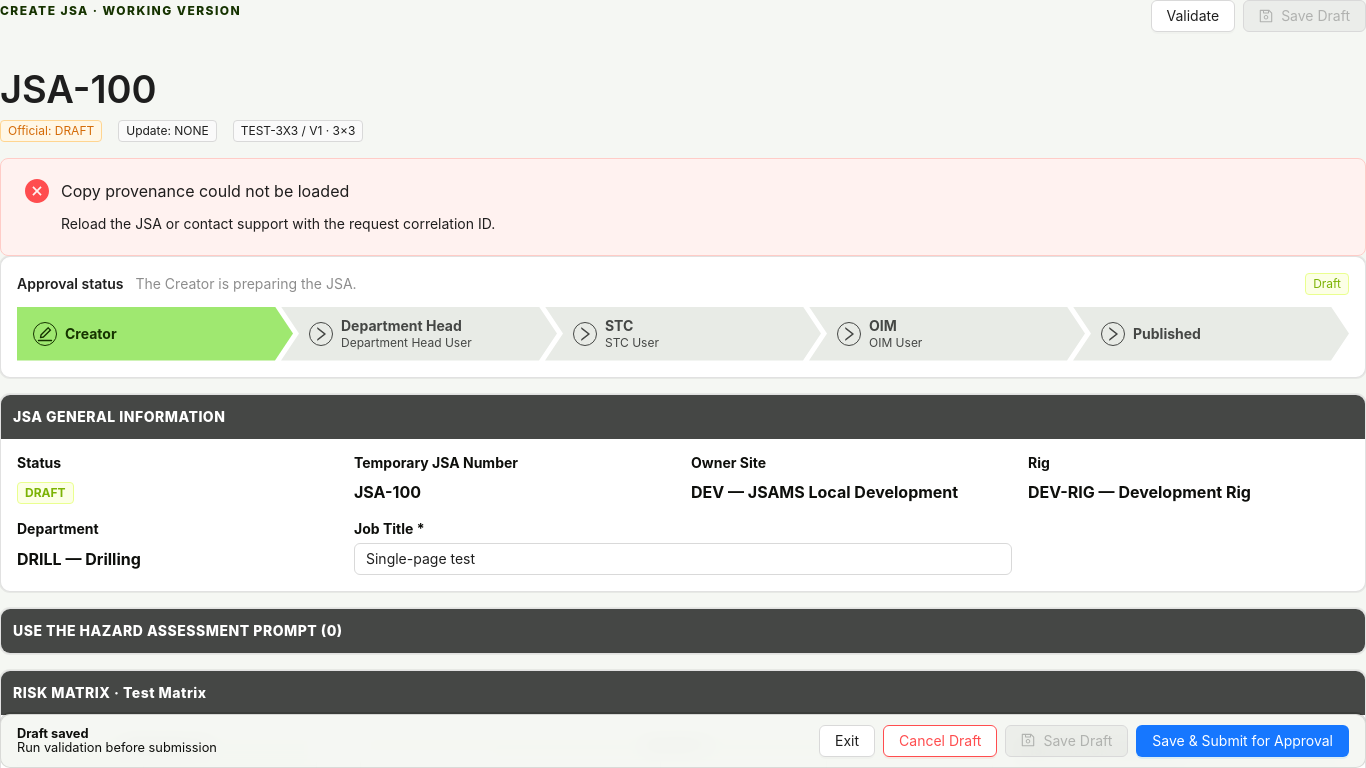
Test case: JsaDraftEditor single-page worksheet › keeps complete API diagnostics visible when Draft save fails
The width and height of the screenshot is (1366, 768).
Type " updated" into the field showing "Single-page test" at (683, 559), box [354,543,1012,575]
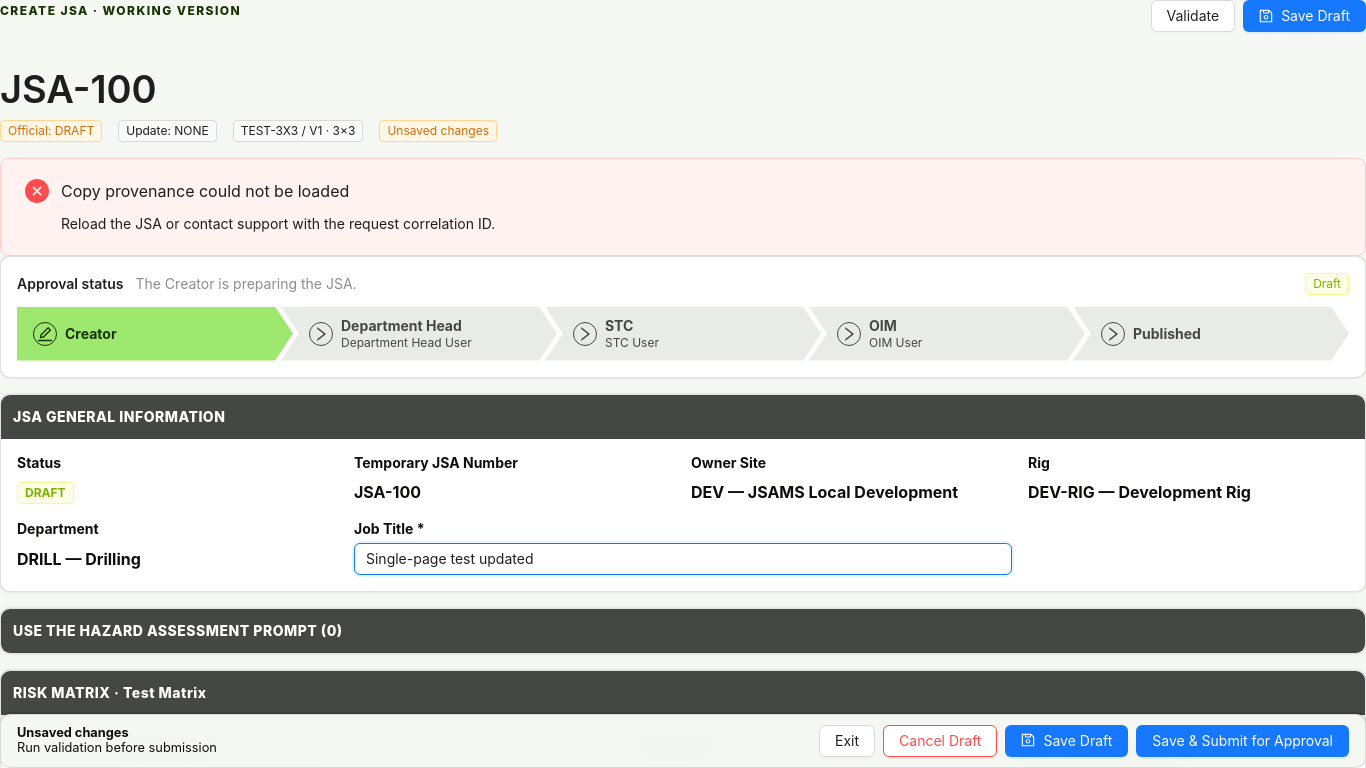
Click the button "Save Draft" in the row of "CREATE JSA · WORKING VERSION" at (1305, 16), box [1243,0,1365,32]
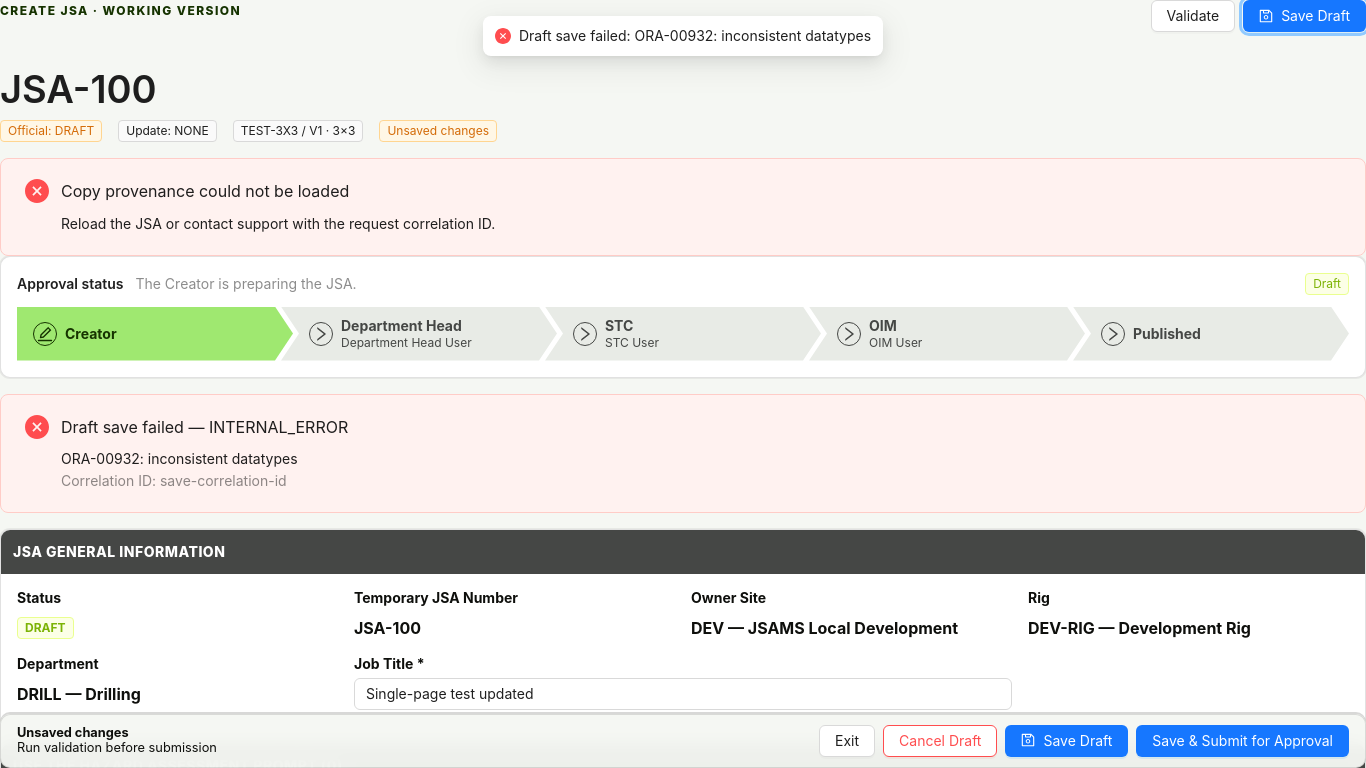
Check: the text "Draft save failed — INTERNAL_ERROR" is shown, box [61,417,348,437]
Check: the text "Correlation ID: save-correlation-id" is shown, box [61,472,287,489]
